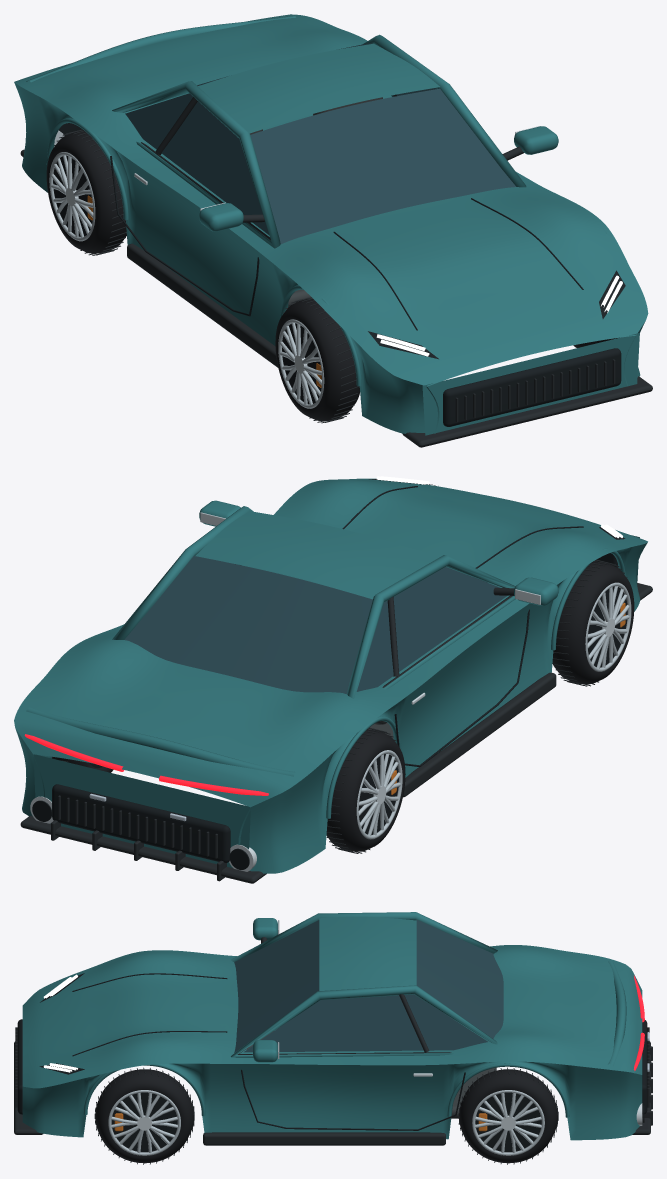
File: solstice-gt.glb
The picture shows the model from 3 angles, top to bottom: view 1: azimuth 30°, elevation 25°; view 2: azimuth 150°, elevation 25°; view 3: azimuth 270°, elevation 25°; orthographic projection. The views are drawn at different scales.
Visible parts, largest first — view 1: body-shell, Windshield, Sculpted flank, Roof, Side glass, Recessed intake, Tire shoulder.002, Painted fascia, Tire shoulder, Cabin frame, Carbon sill, Splitter (+10 smaller); view 2: body-shell, Fastback glass, Sculpted flank, Roof, Side glass, Painted fascia.001, Rear diffuser, Tire shoulder.002, Tire shoulder, Cabin frame, Carbon sill, Diffuser lip (+13 smaller); view 3: body-shell, Sculpted flank.001, Side glass.001, Roof, Windshield, Fastback glass, Tire shoulder.003, Tire shoulder.001, Carbon sill.001, Cabin frame.001, Cabin frame, Wheel barrel.001 (+13 smaller).
Part boxes in pixels (x1,y1,x2,y2): body-shell: (14, 14, 648, 386); Windshield: (250, 88, 516, 244); Sculpted flank: (14, 82, 439, 433); Roof: (198, 43, 439, 133); Side glass: (125, 93, 269, 235); Recessed intake: (443, 348, 621, 426); Tire shoulder.002: (275, 299, 359, 420); Painted fascia: (422, 333, 639, 435); Tire shoulder: (46, 131, 126, 253); Cabin frame: (112, 81, 280, 248); Carbon sill: (127, 243, 278, 367); Splitter: (402, 376, 652, 447); body-shell: (14, 478, 647, 807); Fastback glass: (124, 556, 372, 693); Sculpted flank: (238, 542, 647, 873); Roof: (195, 511, 438, 599); Side glass: (356, 567, 507, 691); Painted fascia.001: (33, 754, 250, 867); Rear diffuser: (52, 784, 230, 862); Tire shoulder.002: (552, 562, 634, 684); Tire shoulder: (326, 729, 405, 851); Cabin frame: (347, 555, 515, 698); Carbon sill: (403, 672, 556, 797); Diffuser lip: (20, 815, 266, 883); body-shell: (22, 945, 642, 1088); Sculpted flank.001: (22, 1061, 642, 1140); Side glass.001: (244, 994, 487, 1052); Roof: (319, 916, 416, 990); Windshield: (234, 920, 319, 1052); Fastback glass: (416, 919, 503, 1038); Tire shoulder.003: (95, 1069, 194, 1163); Tire shoulder.001: (459, 1069, 557, 1163); Carbon sill.001: (203, 1132, 445, 1145); Cabin frame.001: (231, 985, 497, 1057); Cabin frame: (231, 912, 497, 961); Wheel barrel.001: (475, 1092, 541, 1151).
Bounding box in the file's own units: 2.44 × 1.34 × 4.86.
